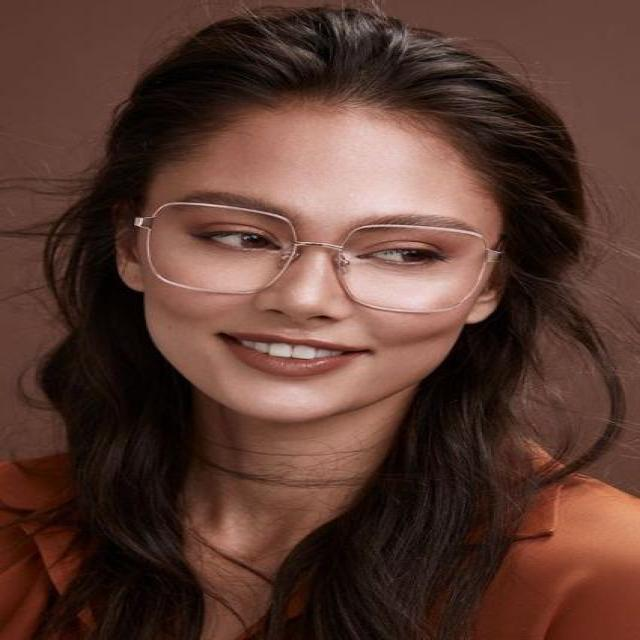glasses: (137, 201, 501, 315)
